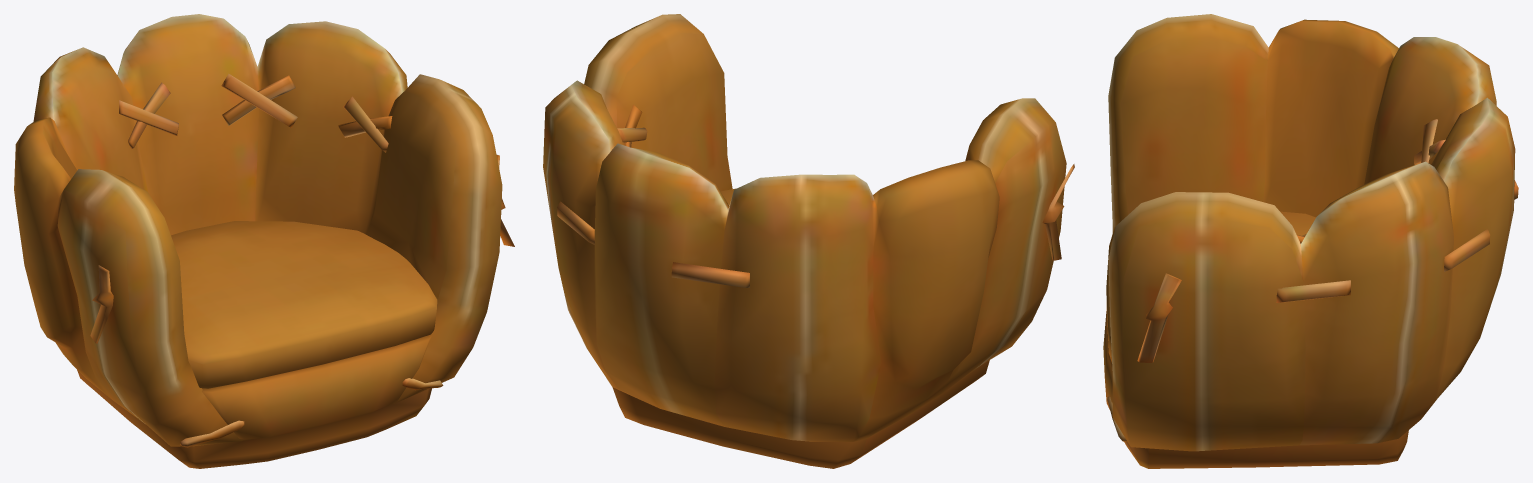
3 renders of one model, left to right at view 1: azimuth 30°, elevation 25°; view 2: azimuth 150°, elevation 25°; view 3: azimuth 270°, elevation 25°, orthographic. The views are drawn at different scales.
Size of the model in its own units: 9.99 by 7.01 by 8.21.
Materials: 1 (1 with a texture image).
